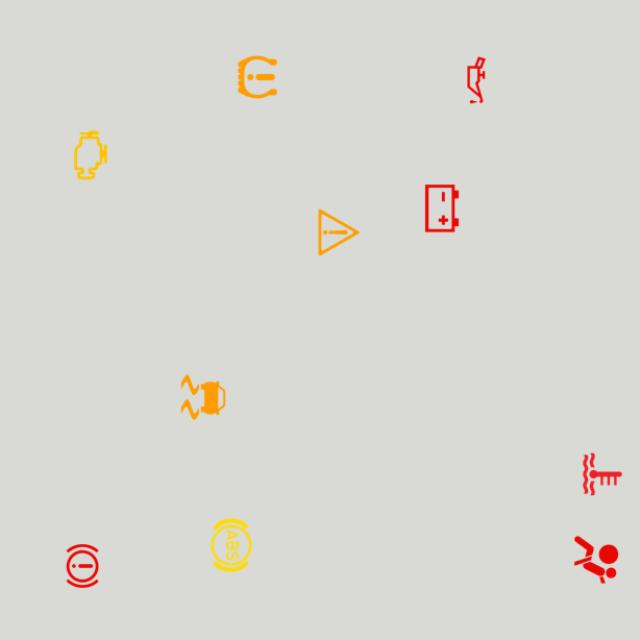Anti Lock Braking System: (202, 516, 261, 574)
Braking System Issue: (53, 537, 112, 595)
Charging System Issue: (413, 179, 471, 238)
Check Engine: (61, 126, 120, 185)
Electronic Stability Problem -ESP-: (174, 368, 233, 426)
Engine Overheating Warning Light: (573, 445, 632, 504)
Low Engine Oil Warning Light: (447, 51, 506, 110)
Low Tire Pressure Warning Light: (228, 48, 287, 106)
Master warning light: (310, 203, 368, 262)
SRS-Airbag: (567, 530, 625, 589)
